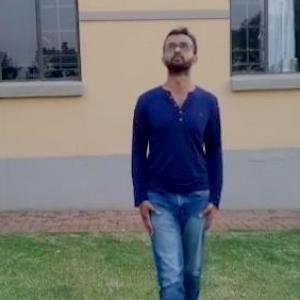follow: (127, 18, 230, 299)
